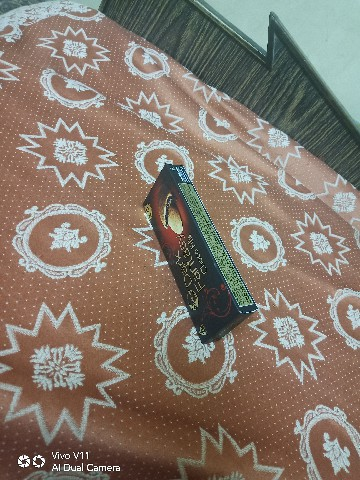darkfantasy small: (137, 157, 263, 356)
